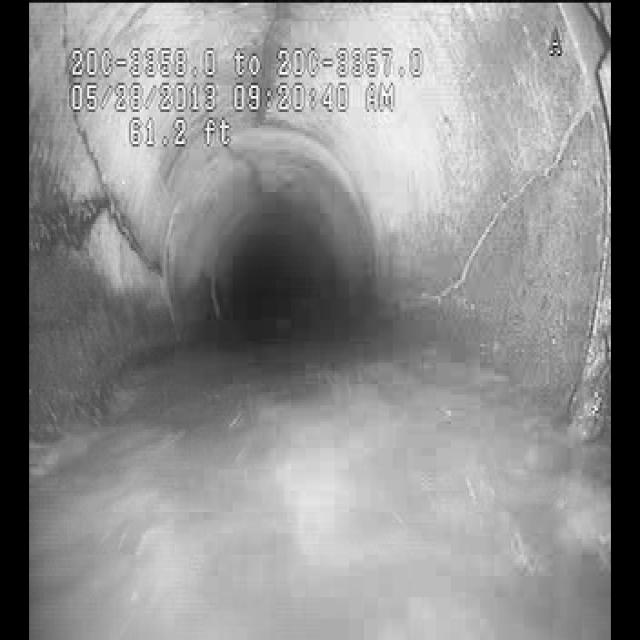Crack: (466, 115, 573, 279)
Fracture: (79, 156, 157, 302)
